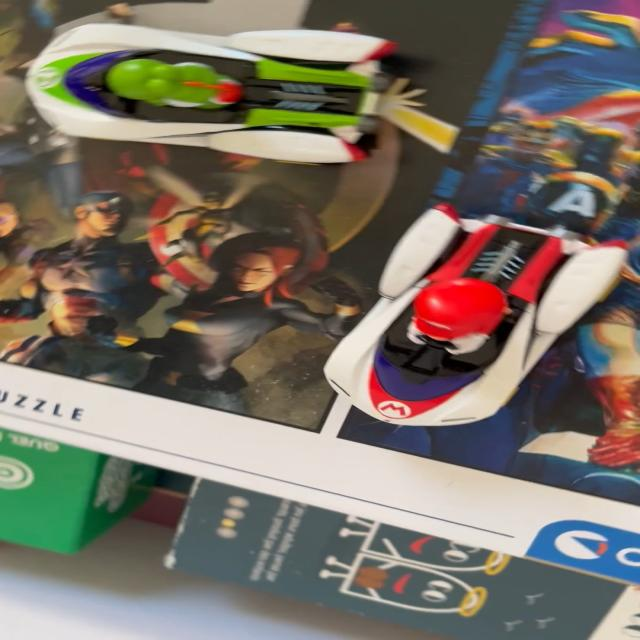mario: (296, 197, 634, 439)
yoshi: (24, 12, 427, 170)
